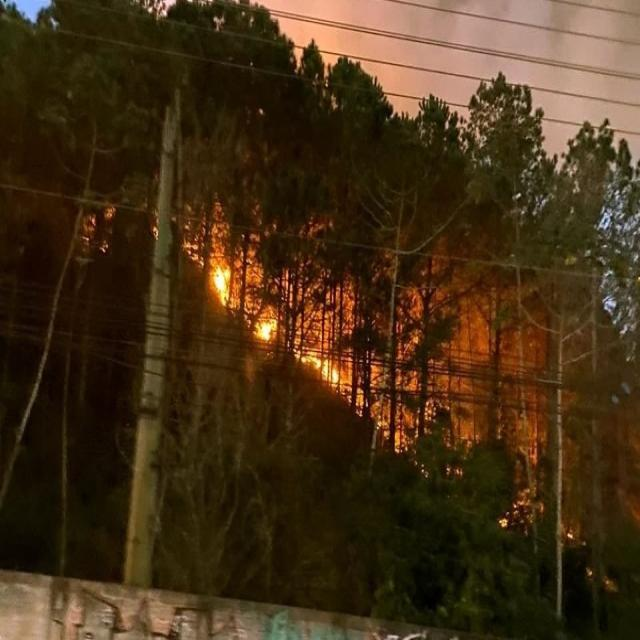Fire: (302, 348, 339, 392), (212, 264, 232, 306), (253, 317, 277, 342)
